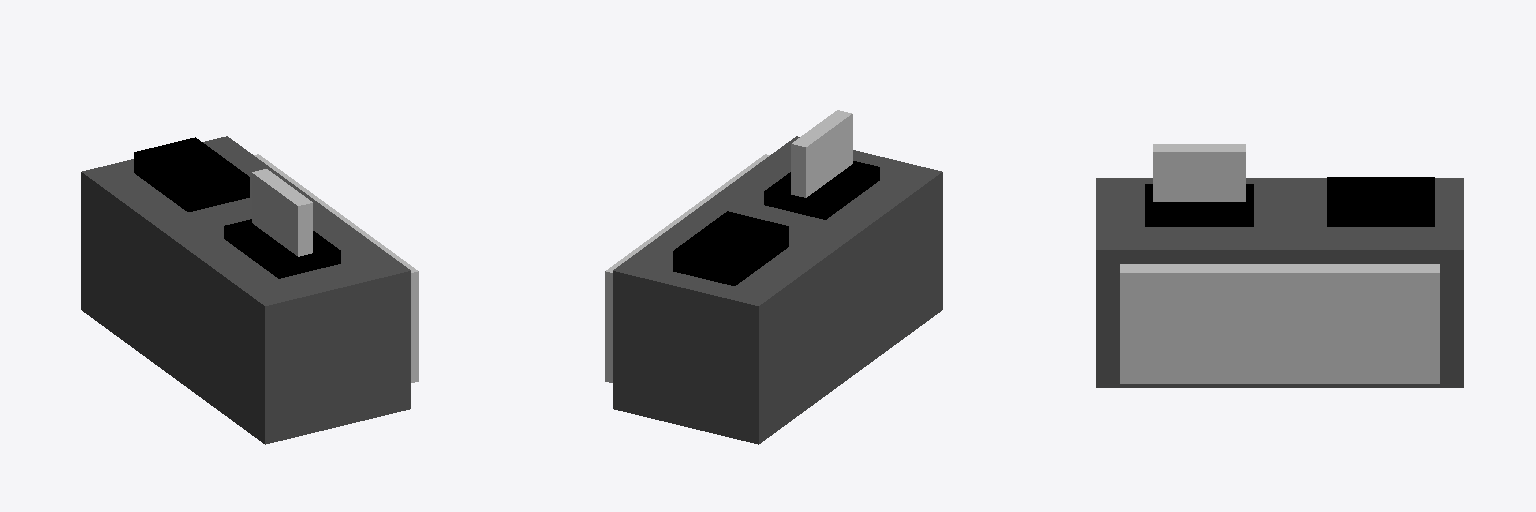
Rendered from inklokken.obj.
3 views of the same model, side by side, from view 1: azimuth 30°, elevation 25°; view 2: azimuth 150°, elevation 25°; view 3: azimuth 270°, elevation 25° (orthographic).
Visible parts, largest first — view 1: Cube, Cube.4, Cube.3, Cube.2, Cube.1; view 2: Cube, Cube.4, Cube.3, Cube.2, Cube.1; view 3: Cube.1, Cube, Cube.4, Cube.3, Cube.2.
Boxes of the visible parts, x1,y1,x2,y2 form: Cube: [81, 136, 410, 444]; Cube.4: [134, 137, 249, 211]; Cube.3: [252, 169, 312, 256]; Cube.2: [224, 219, 340, 278]; Cube.1: [254, 154, 418, 382]; Cube: [613, 136, 942, 444]; Cube.4: [673, 211, 788, 285]; Cube.3: [791, 110, 852, 197]; Cube.2: [764, 161, 879, 219]; Cube.1: [605, 154, 769, 382]; Cube.1: [1120, 264, 1439, 383]; Cube: [1096, 178, 1463, 387]; Cube.4: [1327, 177, 1434, 226]; Cube.3: [1153, 144, 1245, 201]; Cube.2: [1145, 184, 1253, 226].
Size of the model in its own units: 75.46 by 88.06 by 145.